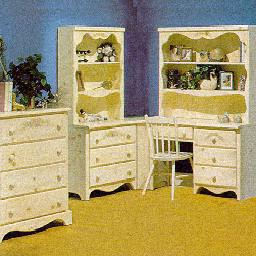Armario: (150, 24, 250, 194), (64, 25, 135, 190), (2, 106, 70, 238)
